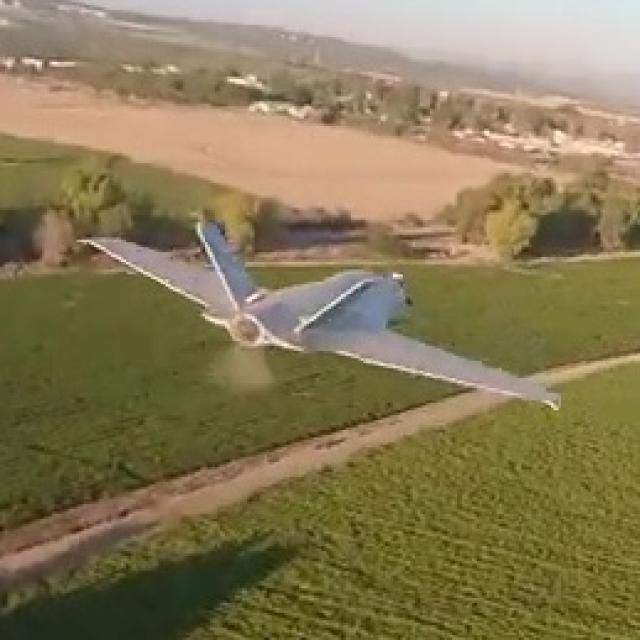iha: (77, 216, 568, 429)
